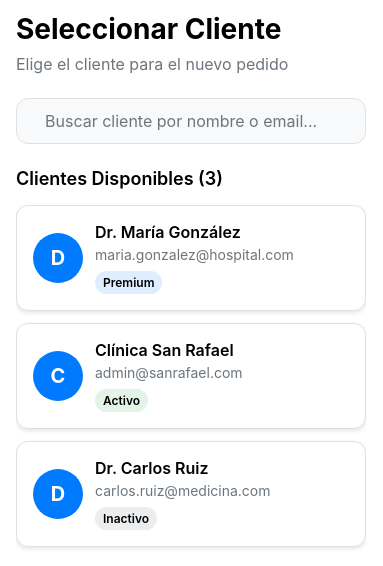
Scenario: SelectClientScreen › displays empty state when no clients match search
The width and height of the screenshot is (383, 566).
Type "xyz123nonexistent" into the field with placeholder "Buscar cliente por nombre o email..." at coordinates (197, 121), box [45,111,349,131]
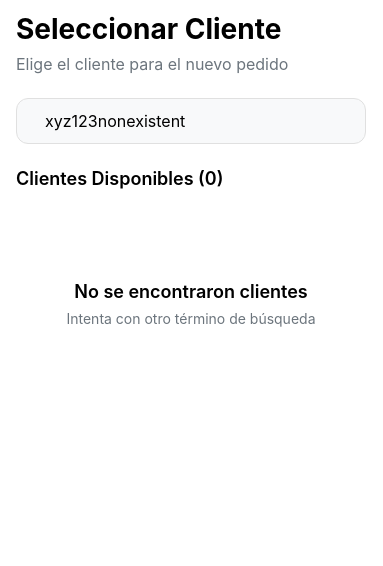
Check: the text "No se encontraron clientes" is shown, box [74,281,308,302]
Check: the text "Intenta con otro término de búsqueda" is shown, box [66,310,316,327]
